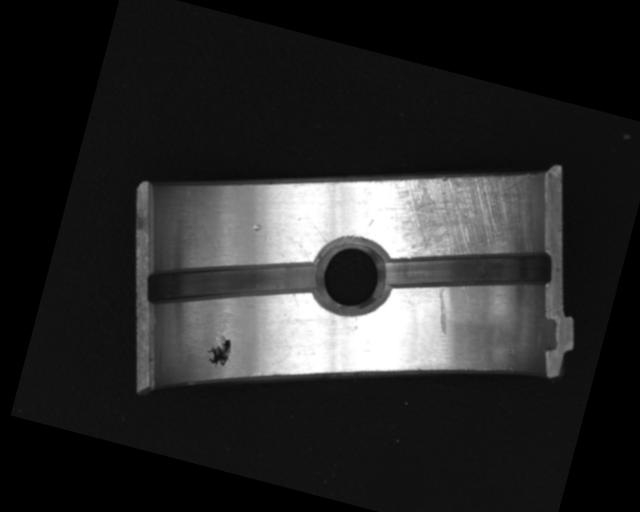blot: (201, 332, 234, 374)
bruise: (249, 222, 264, 233)
gap: (142, 222, 326, 345), (380, 214, 556, 326)
hole: (305, 229, 398, 320)
nick: (428, 285, 459, 336), (301, 216, 336, 245)
scratch: (368, 136, 547, 286)
